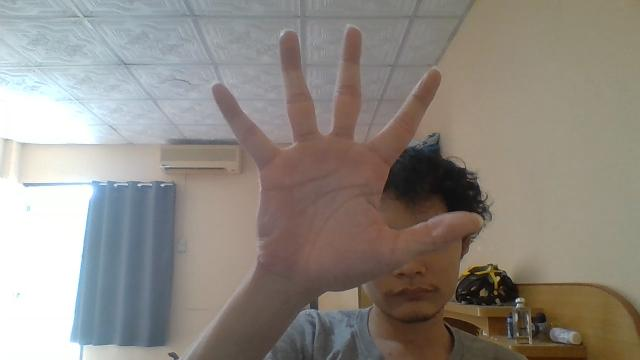Stop: (210, 24, 486, 300)
